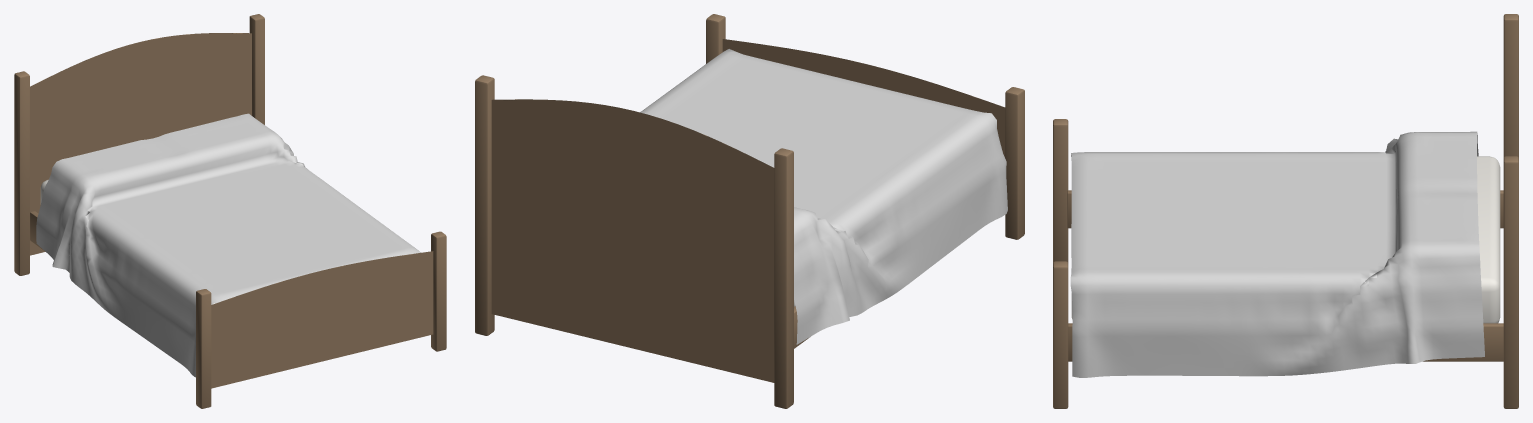
File: bed_double_chenille.glb
3 renders of one model, left to right at view 1: azimuth 30°, elevation 25°; view 2: azimuth 150°, elevation 25°; view 3: azimuth 270°, elevation 25°, orthographic. The views are drawn at different scales.
Visible parts, largest first — view 1: bd.spread, bd.head, bd.foot, bd.headpost-1, bd.footpost-1, bd.footpost1, bd.headpost1; view 2: bd.head, bd.spread, bd.foot, bd.headpost-1, bd.headpost1, bd.footpost-1, bd.footpost1; view 3: bd.spread, bd.headpost1, bd.mattress, bd.footpost1, bd.headpost-1, bd.footpost-1, bd.rail1.
Part boxes in pixels (box(x1,y1,x2,y2)): bd.spread: box(36, 113, 420, 377); bd.head: box(30, 33, 251, 255); bd.foot: box(211, 251, 433, 388); bd.headpost-1: box(14, 71, 29, 275); bd.footpost-1: box(196, 289, 211, 408); bd.footpost1: box(431, 231, 446, 351); bd.headpost1: box(249, 14, 264, 124); bd.head: box(491, 99, 774, 382); bd.spread: box(640, 49, 1007, 344); bd.foot: box(722, 39, 1005, 157); bd.headpost-1: box(774, 148, 793, 408); bd.headpost1: box(475, 75, 494, 335); bd.footpost-1: box(1005, 87, 1024, 239); bd.footpost1: box(706, 14, 725, 63); bd.spread: box(1070, 131, 1484, 377); bd.headpost1: box(1503, 156, 1518, 408); bd.mattress: box(1071, 156, 1500, 323); bd.footpost1: box(1053, 261, 1068, 408); bd.headpost-1: box(1503, 14, 1518, 157); bd.footpost-1: box(1053, 119, 1068, 262); bd.rail1: box(1068, 323, 1503, 361).
Bounding box in the file's own units: 1.67 × 1.27 × 2.13.
